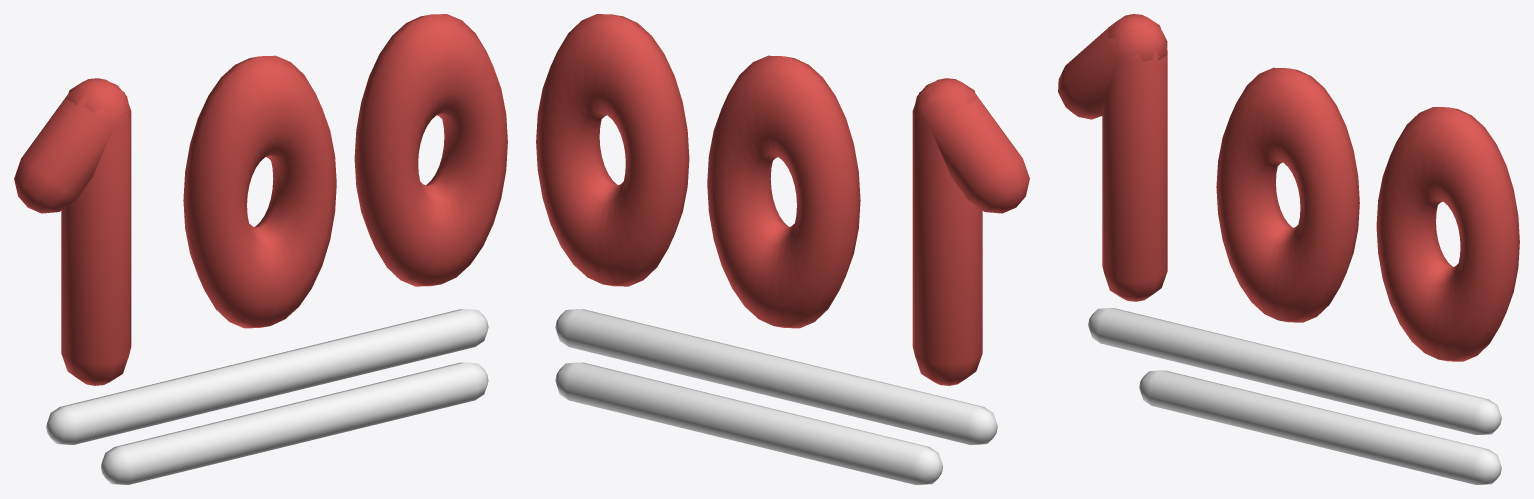
File: hundred.glb
The picture shows the model from 3 angles, left to right: view 1: azimuth 30°, elevation 25°; view 2: azimuth 150°, elevation 25°; view 3: azimuth 330°, elevation 25°; orthographic projection. The views are drawn at different scales.
Visible parts, largest first — view 1: hundred; view 2: hundred; view 3: hundred.
Boxes of the visible parts, x1=… form: hundred: x1=14, y1=14, x2=507, y2=484; hundred: x1=536, y1=14, x2=1029, y2=484; hundred: x1=1058, y1=14, x2=1519, y2=484.
Size of the model in its own units: 1 by 0.81 by 0.1281.
